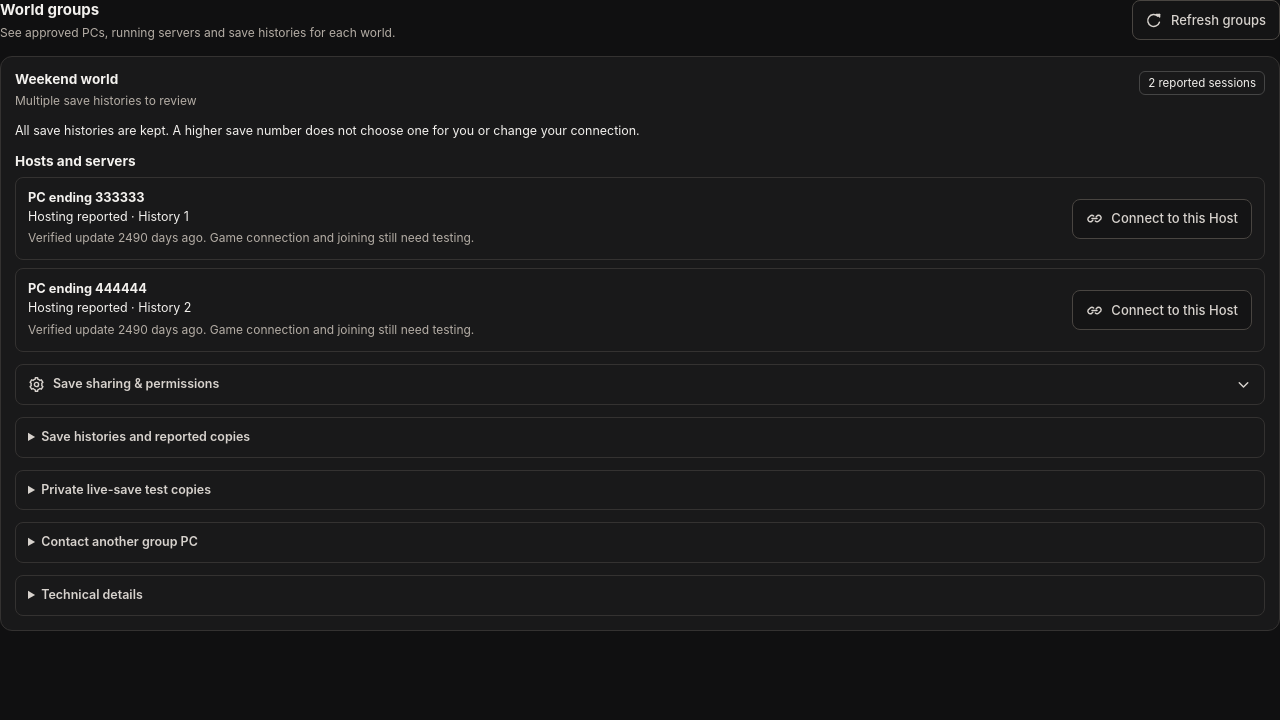
Test case: World groups › keeps a metadata follower visible without allowing save consent before Receive permission is granted
Click the heading "Save sharing & permissions" at (136, 384), box top-left (28, 375), bottom-right (1252, 394)
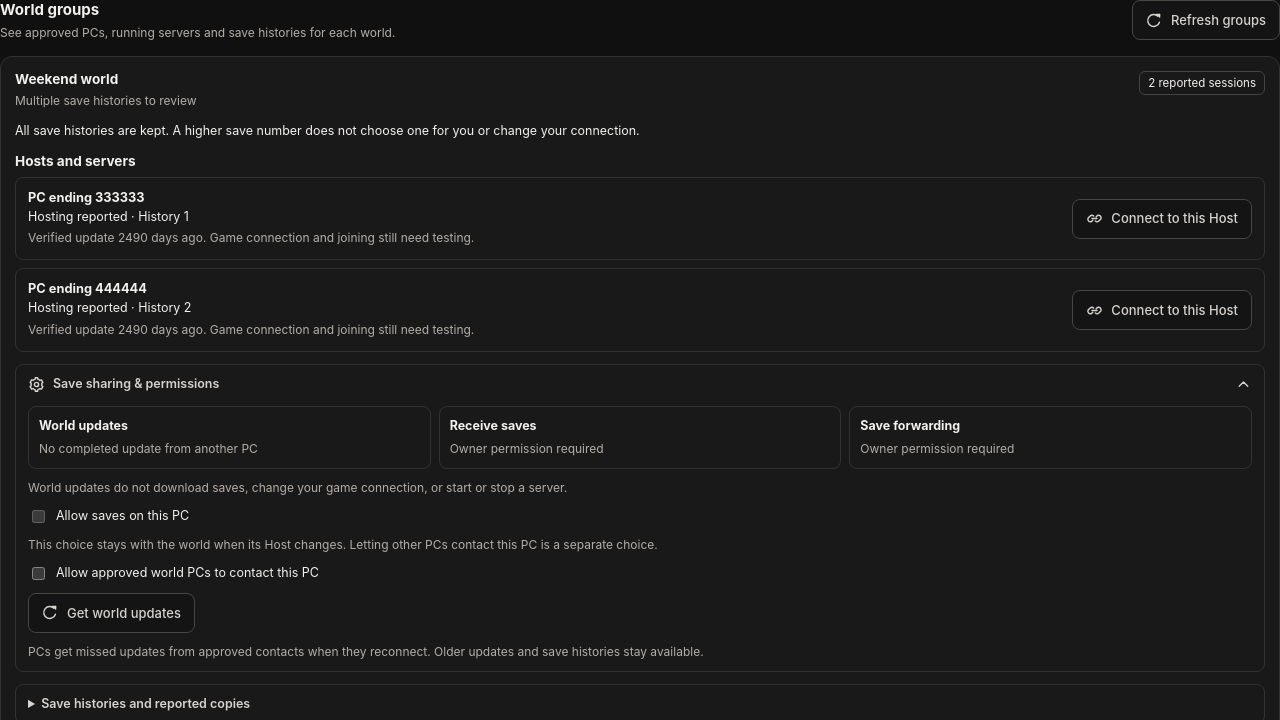
Expected: the checkbox labelled "Allow saves on this PC" is not checked, top-left (32, 510), bottom-right (45, 523)
Expected: the checkbox labelled "Allow saves on this PC" is disabled, top-left (32, 510), bottom-right (45, 523)
Expected: the checkbox labelled "Allow approved world PCs to contact this PC" is not checked, top-left (32, 567), bottom-right (45, 580)
